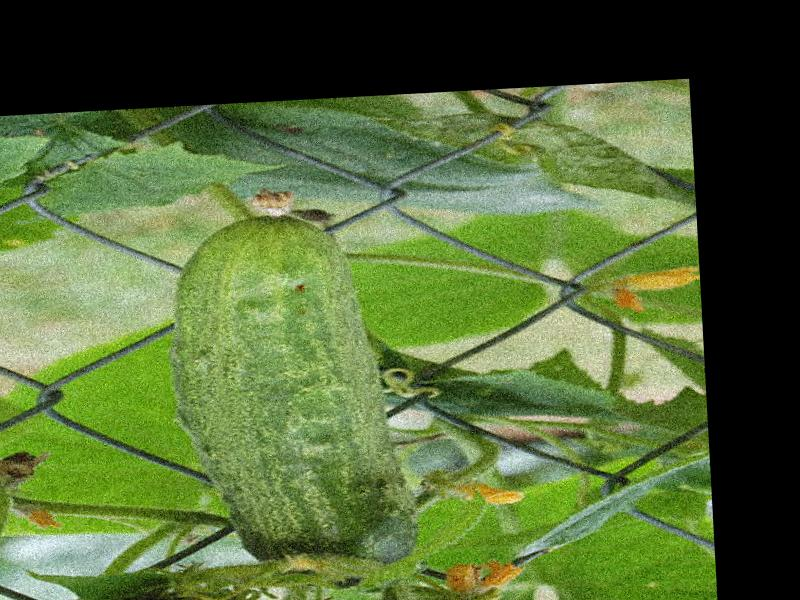Cucumber: (169, 187, 414, 593)
